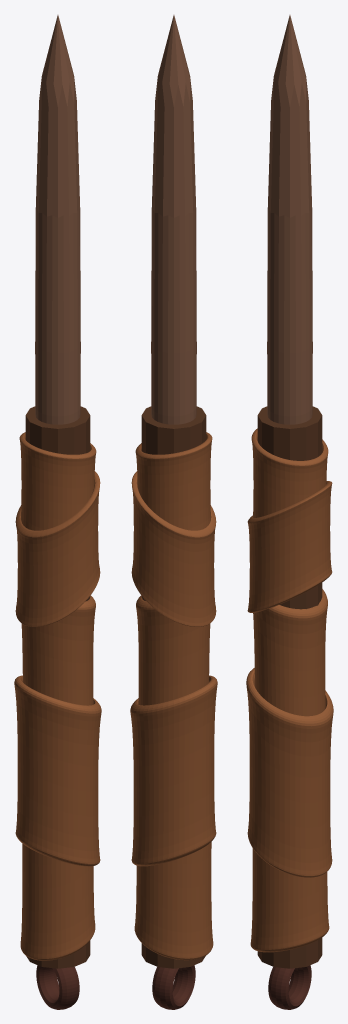
File: Wand 301.glb
The picture shows the model from 3 angles, left to right: view 1: azimuth 30°, elevation 25°; view 2: azimuth 150°, elevation 25°; view 3: azimuth 330°, elevation 25°; orthographic projection.
Parts seen in each view (by area): view 1: GeneratedWand; view 2: GeneratedWand; view 3: GeneratedWand.
Part boxes in pixels (x1=…): GeneratedWand: x1=14, y1=15, x2=101, y2=1009; GeneratedWand: x1=130, y1=15, x2=217, y2=1009; GeneratedWand: x1=246, y1=15, x2=333, y2=1009.
Size of the model in its own units: 0.0408 by 0.5124 by 0.0408.
